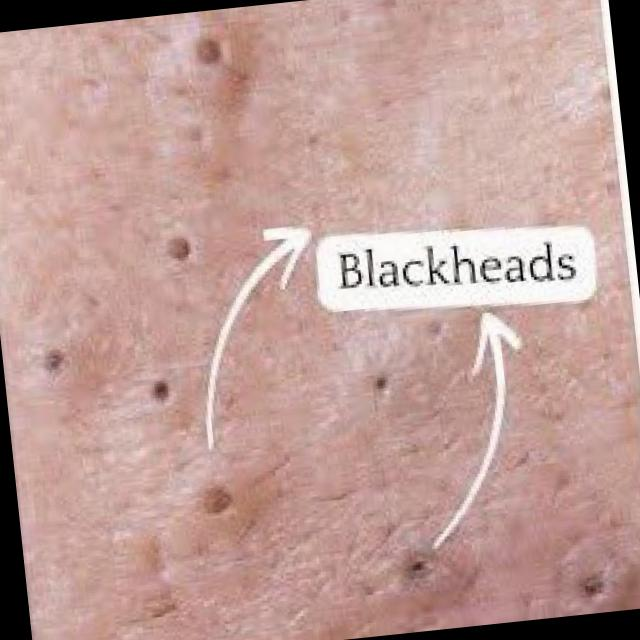blackhead: (200, 483, 236, 520), (141, 593, 183, 622), (402, 550, 438, 580), (192, 33, 224, 66), (164, 234, 192, 262), (578, 570, 604, 598), (40, 348, 64, 374), (148, 378, 172, 403), (186, 120, 205, 147), (596, 81, 616, 104), (167, 80, 190, 100), (424, 316, 444, 338), (372, 371, 391, 394), (227, 69, 252, 86), (303, 130, 322, 150), (360, 582, 378, 602)
